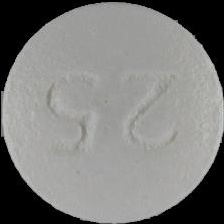16590-845: (0, 0, 224, 224)
